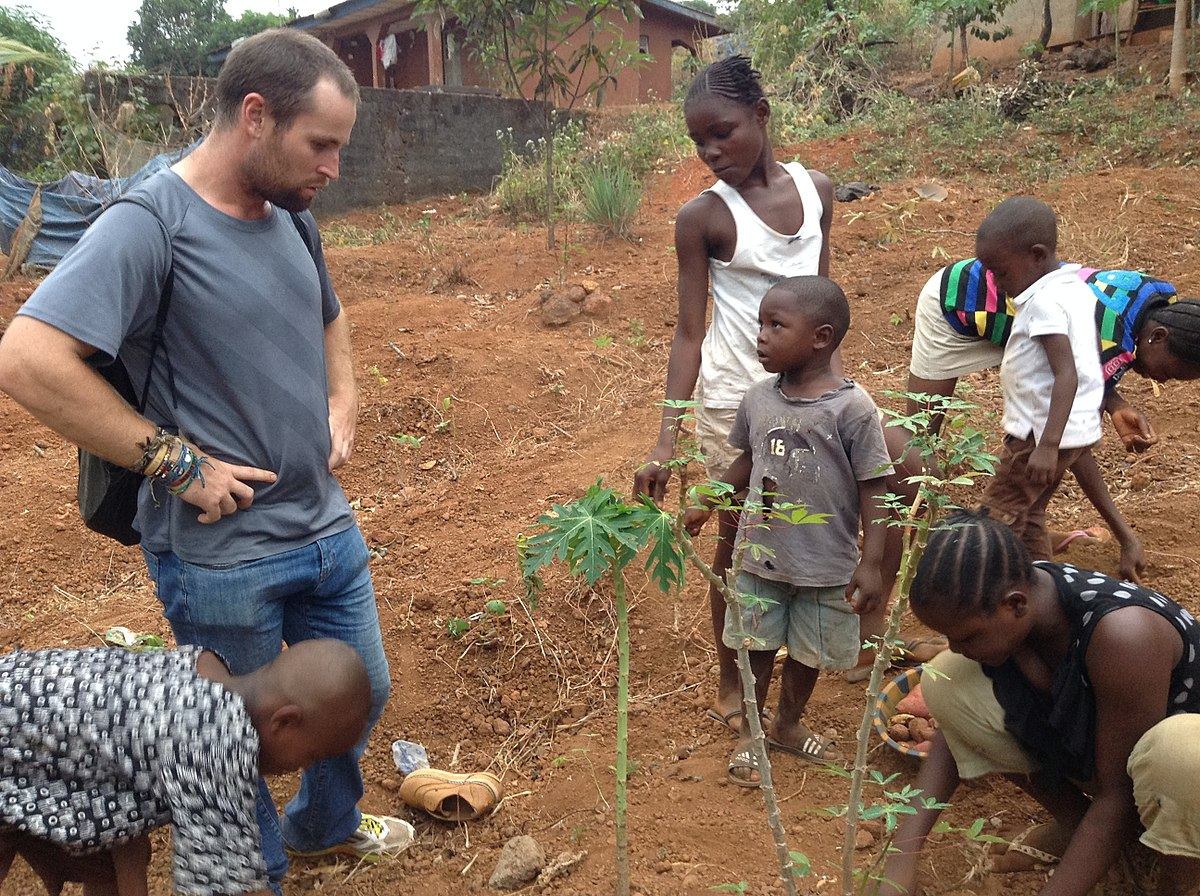person: (1, 27, 414, 860), (634, 53, 843, 733), (877, 509, 1200, 896), (683, 277, 891, 788), (1, 633, 373, 896), (905, 253, 1200, 478), (973, 194, 1102, 567)
